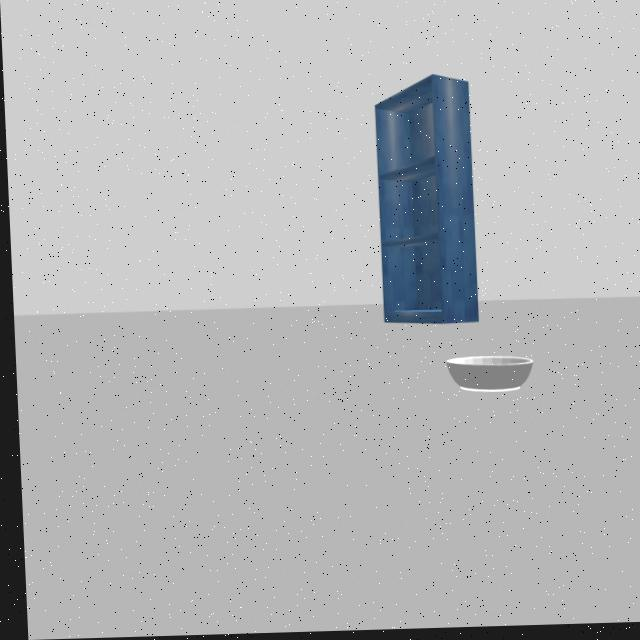bowl: (436, 344, 535, 406)
shelf: (362, 63, 483, 336)
